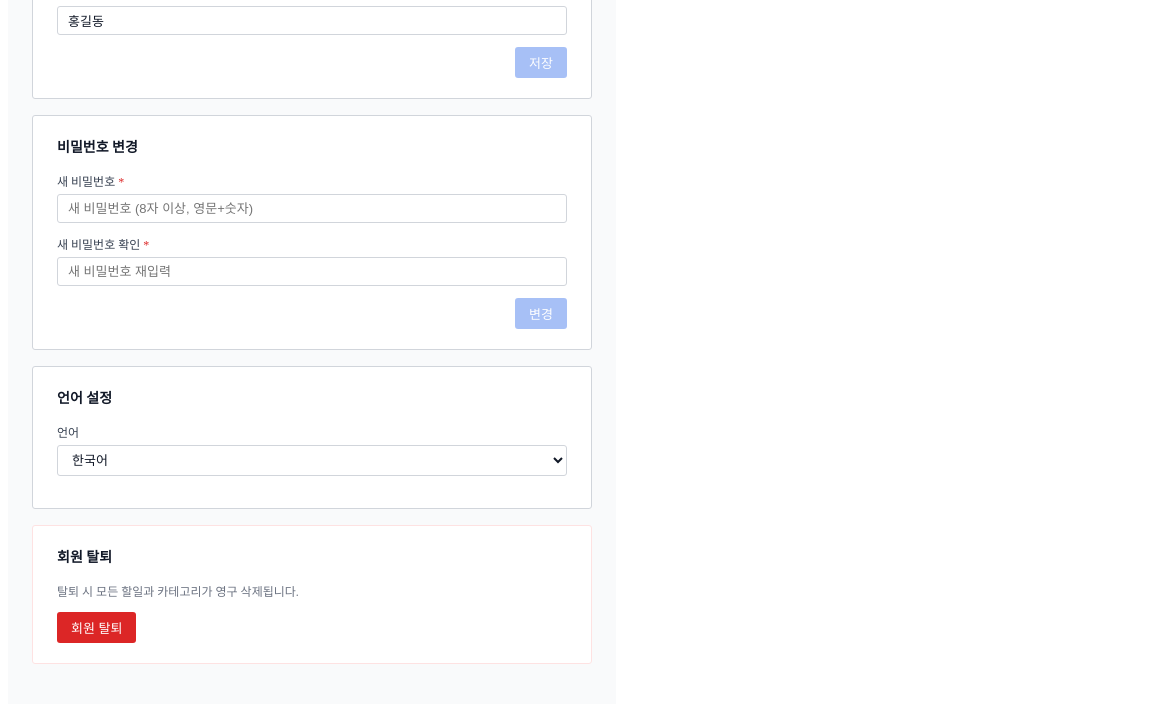
it: ProfilePage — 회원 탈퇴 › 다이얼로그에서 취소 클릭 시 다이얼로그가 닫힌다
This screenshot has width=1152, height=712.
(page scrolled)
Click the button "회원 탈퇴" at {"x": 97, "y": 628}, box top-left (57, 612), bottom-right (136, 643)
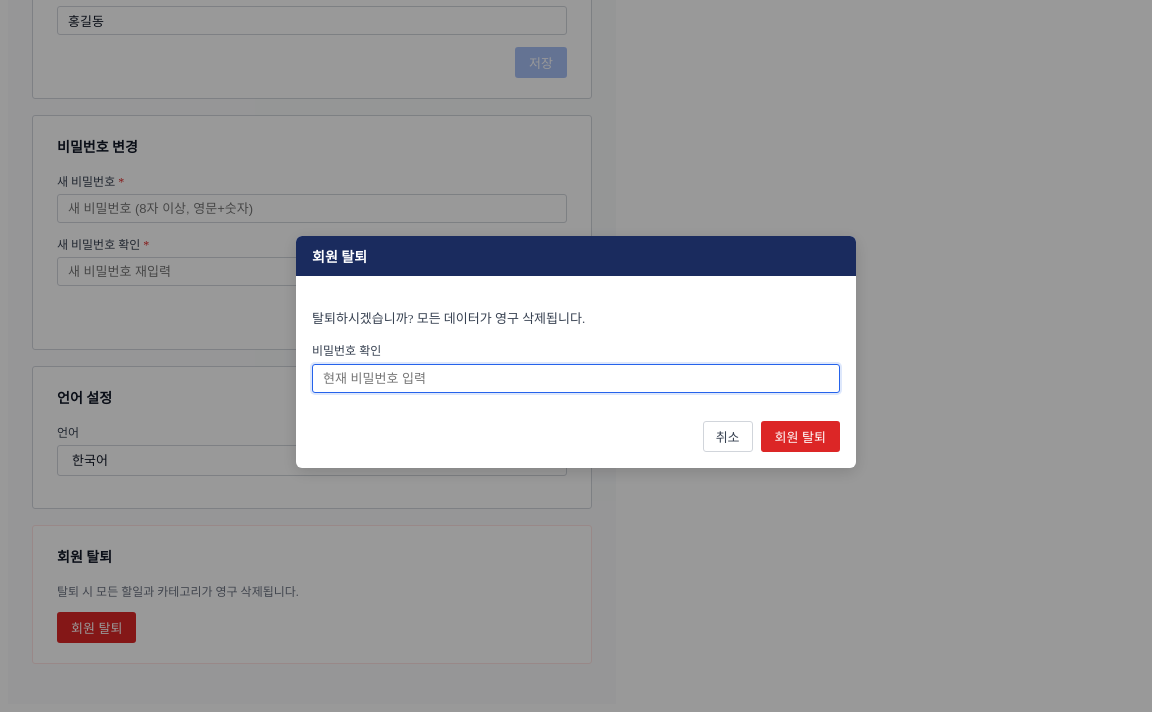
Click the button "취소" at {"x": 728, "y": 436}, box top-left (703, 421), bottom-right (752, 452)
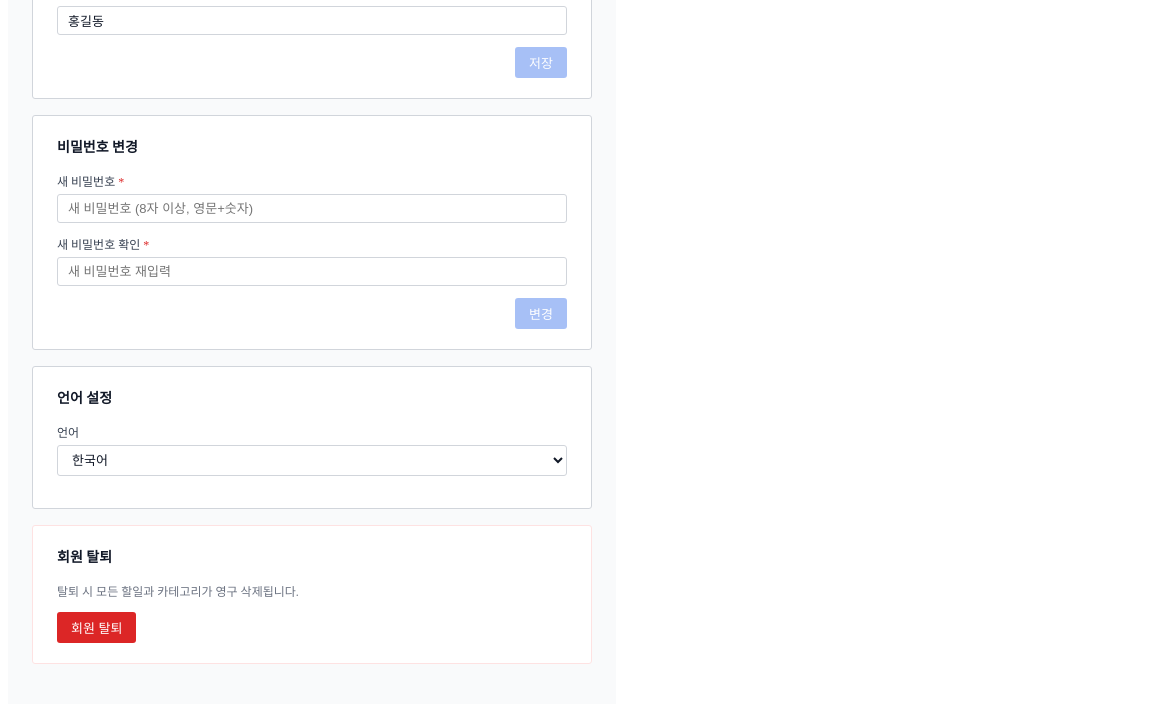
Result: the dialog is gone
